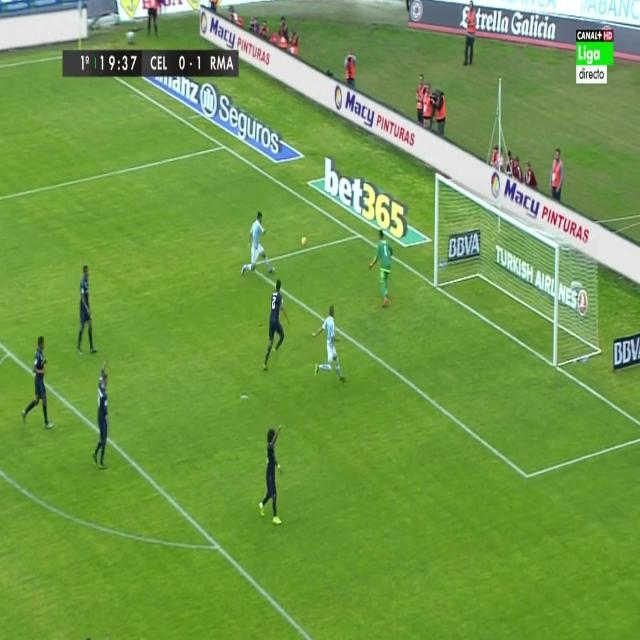Ball: (300, 233, 309, 249)
Goalkeeper: (368, 229, 396, 310)
Player: (257, 420, 288, 530), (21, 332, 53, 434), (312, 302, 348, 386), (262, 276, 292, 374), (240, 210, 278, 277), (76, 262, 99, 360), (92, 359, 111, 473)
